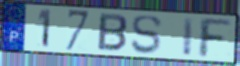1: (37, 8, 52, 50)
7: (64, 8, 92, 52)
B: (96, 12, 129, 54)
F: (198, 16, 234, 59)
I: (181, 16, 196, 58)
S: (130, 14, 164, 55)
